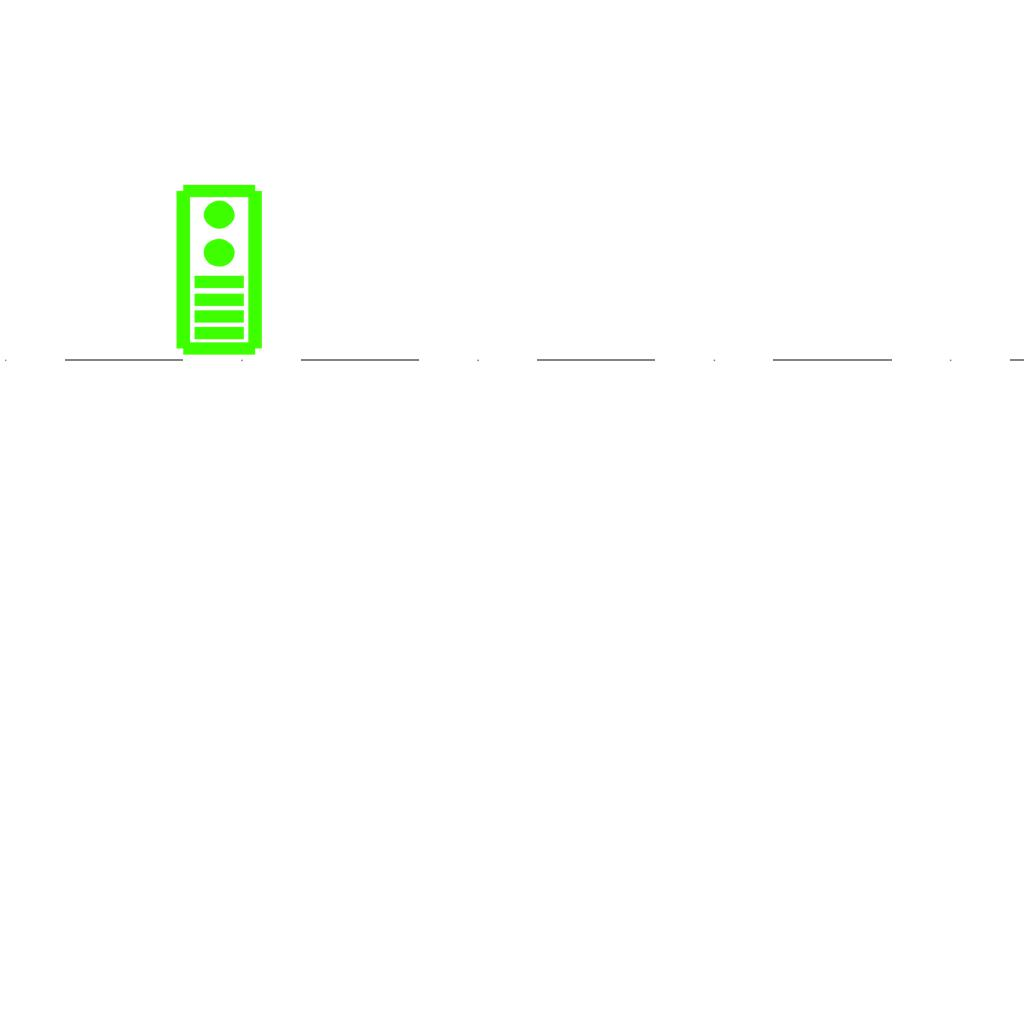Gegensprechanlage_mit_Video: (170, 181, 265, 357)
